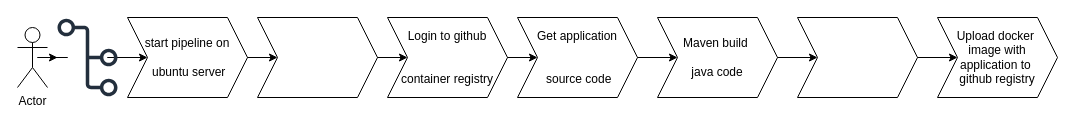
Some shapes in this 1075 by 135 pixel diagram are drawn without their labels. The box of each missing label's shape, as (x1, y1, x2, y2) in pixels:
Create docker image with application jar: (796, 16, 918, 98)
PUSH to GIT: (57, 18, 117, 96)
Set custom base image for build: (256, 16, 378, 98)
